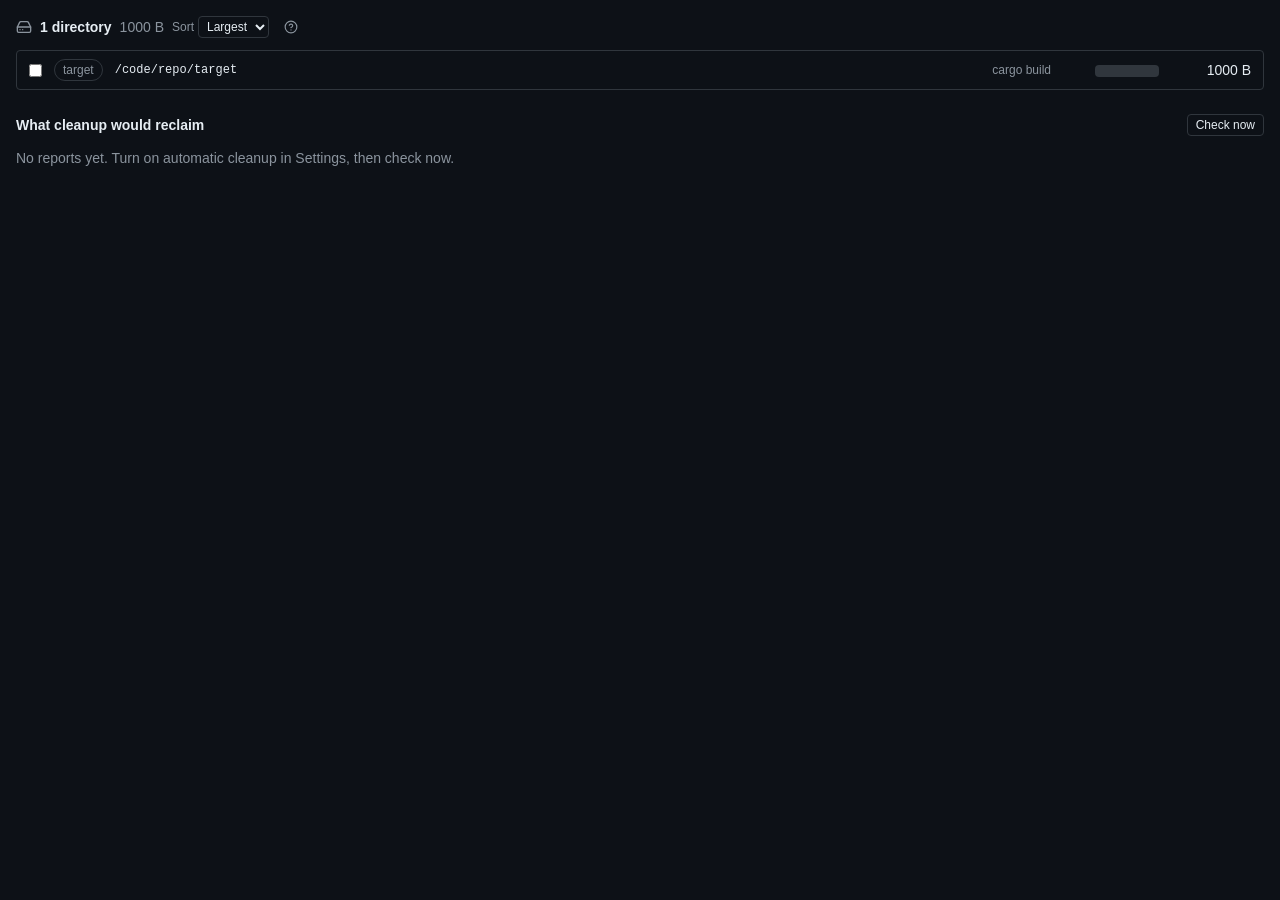
it: ArtifactsPage removal › says the cost is a rebuild, not lost work
Click the checkbox named "Select" at (36, 70), box [29,64,42,76]
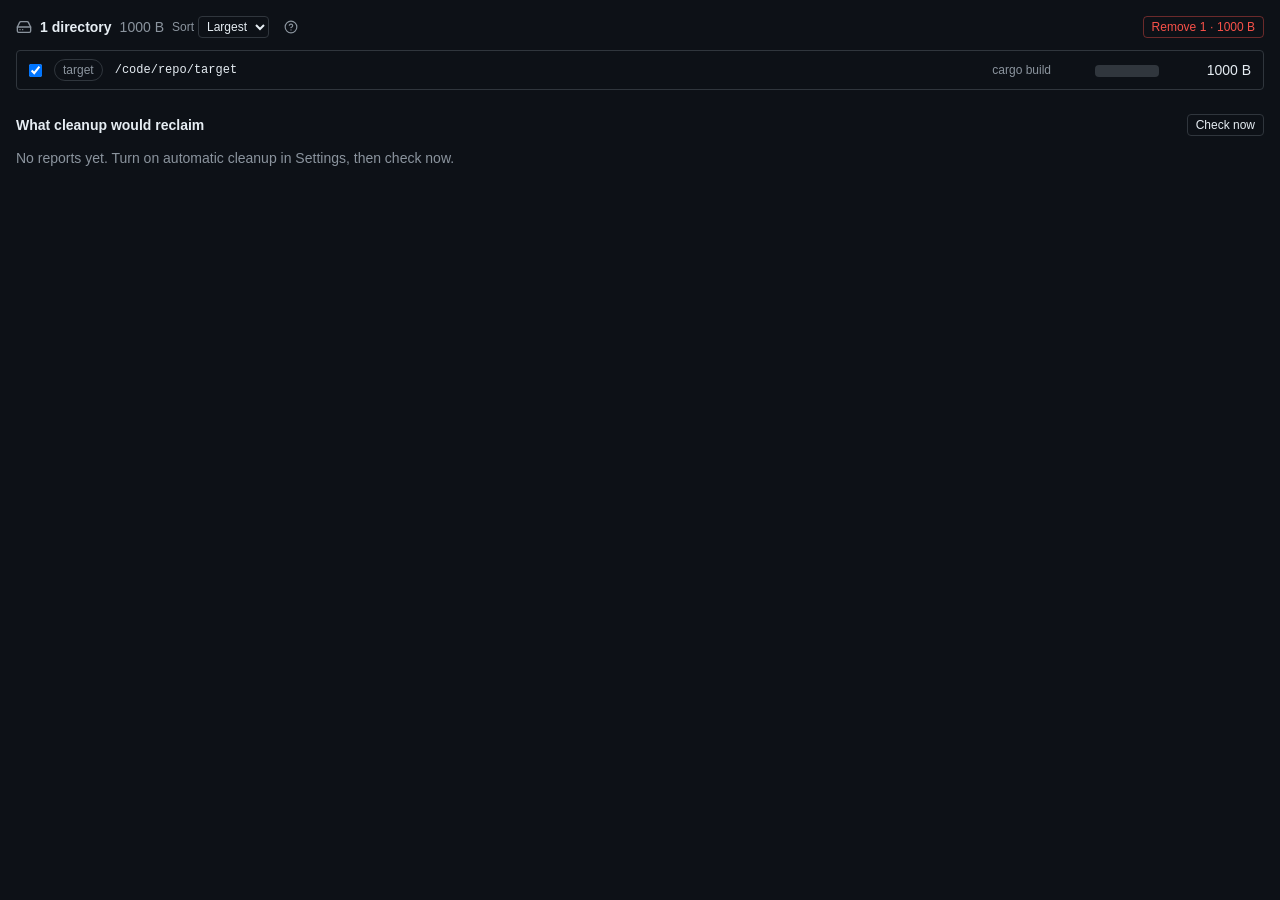
Click the button "Remove 1 · 1000 B" at (1203, 27), box [1143,16,1264,38]
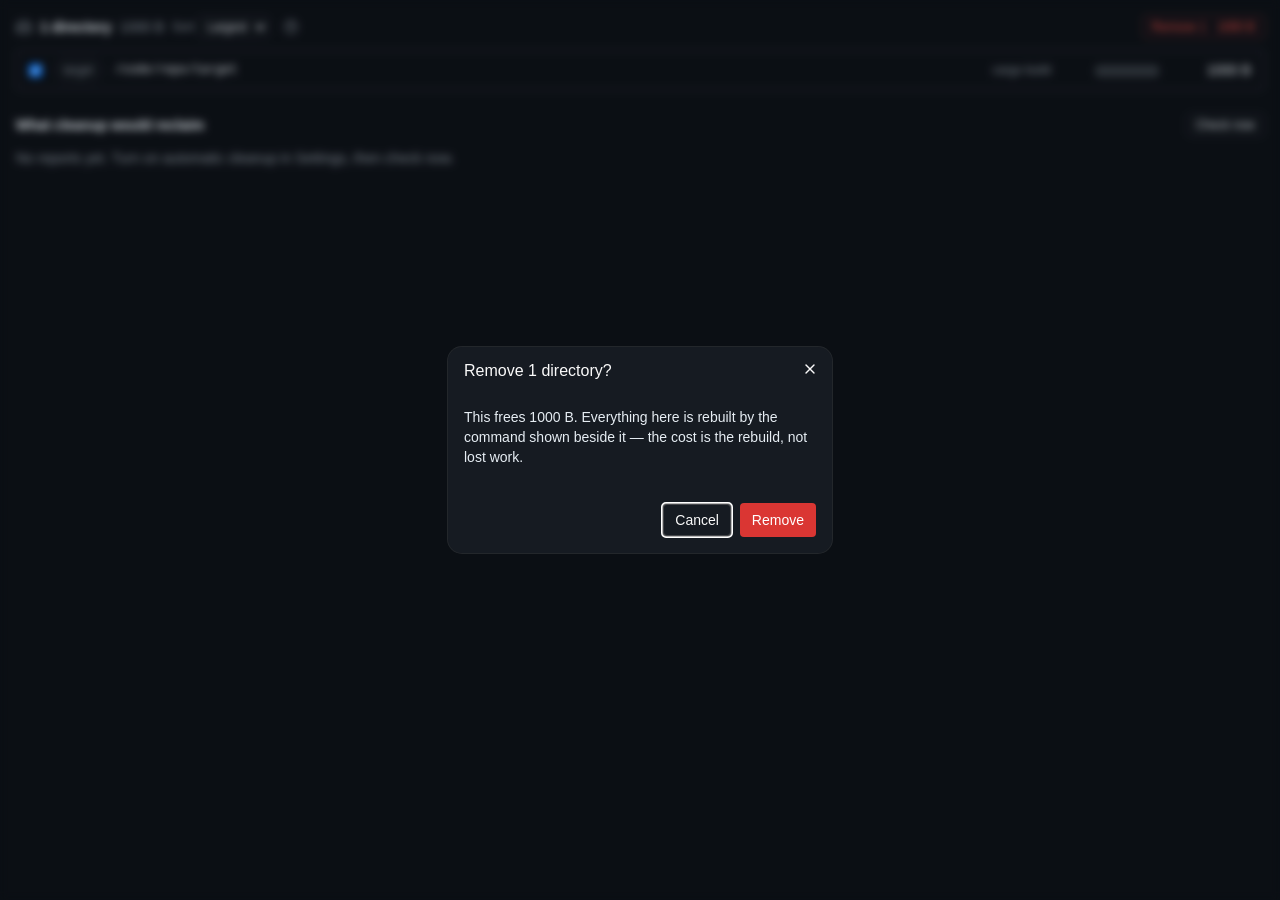
Check: the text "not lost work" is shown, box [464,409,807,465]
